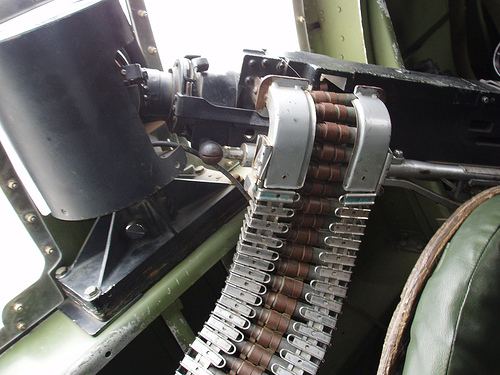rifle: (10, 10, 476, 357)
